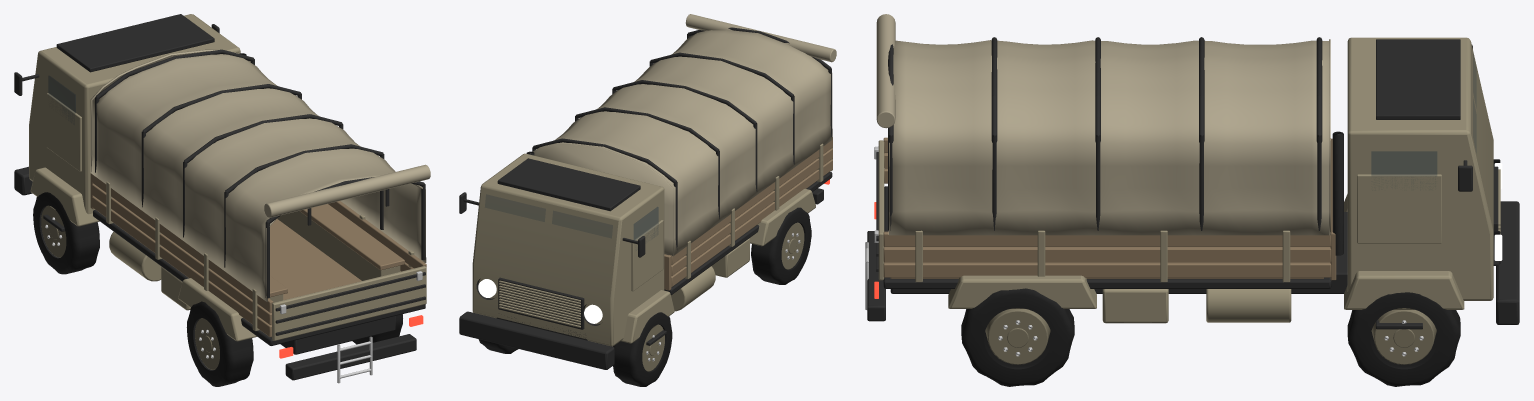
The model's file is camion.glb.
3 views of the same model, side by side, from view 1: azimuth 30°, elevation 25°; view 2: azimuth 150°, elevation 25°; view 3: azimuth 270°, elevation 25° (orthographic). The views are drawn at different scales.
Parts seen in each view (by area): view 1: tarp, cab, tailgate, roofrack, ifloor, wheel_RL, wheel_FL, roll, bench1, rbumper, benchleg1, plank-11 (+15 smaller); view 2: tarp, cab, fbumper, roofrack, wheel_RL, wheel_FL, plank-11, grille, plank-10, door-1, roll, rfender-1 (+8 smaller); view 3: tarp, cab, wheel_RR, wheel_FR, roofrack, plank11, plank10, door1, plank12, rfender1, ffender1, bed (+11 smaller).
Boxes of the visible parts, x1,y1,x2,y2 form: tarp: (90,49,426,301); cab: (29,14,240,214); tailgate: (272,266,426,340); roofrack: (56,14,214,72); ifloor: (270,219,361,300); wheel_RL: (186,301,253,386); wheel_FL: (33,192,99,274); roll: (264,164,430,217); bench1: (299,204,404,270); rbumper: (285,334,416,380); benchleg1: (277,211,400,280); plank-11: (92,184,271,324); tarp: (533,30,832,256); cab: (472,153,664,346); fbumper: (459,311,614,369); roofrack: (497,158,640,211); wheel_RL: (751,207,811,284); wheel_FL: (613,312,672,386); plank-11: (671,148,832,275); grille: (498,277,584,329); plank-10: (671,159,832,287); door-1: (631,220,663,291); roll: (685,14,836,62); rfender-1: (750,188,815,246); tarp: (888,39,1330,235); cab: (1347,37,1493,300); wheel_RR: (961,288,1074,386); wheel_FR: (1347,292,1460,386); roofrack: (1376,39,1460,119); plank11: (883,247,1331,262); plank10: (883,262,1331,277); door1: (1357,174,1441,243); plank12: (883,231,1331,246); rfender1: (948,275,1096,308); ffender1: (1344,271,1464,309); bed: (883,186,1331,288).
Bounding box in the file's own units: 3.09 × 3.22 × 6.94.
